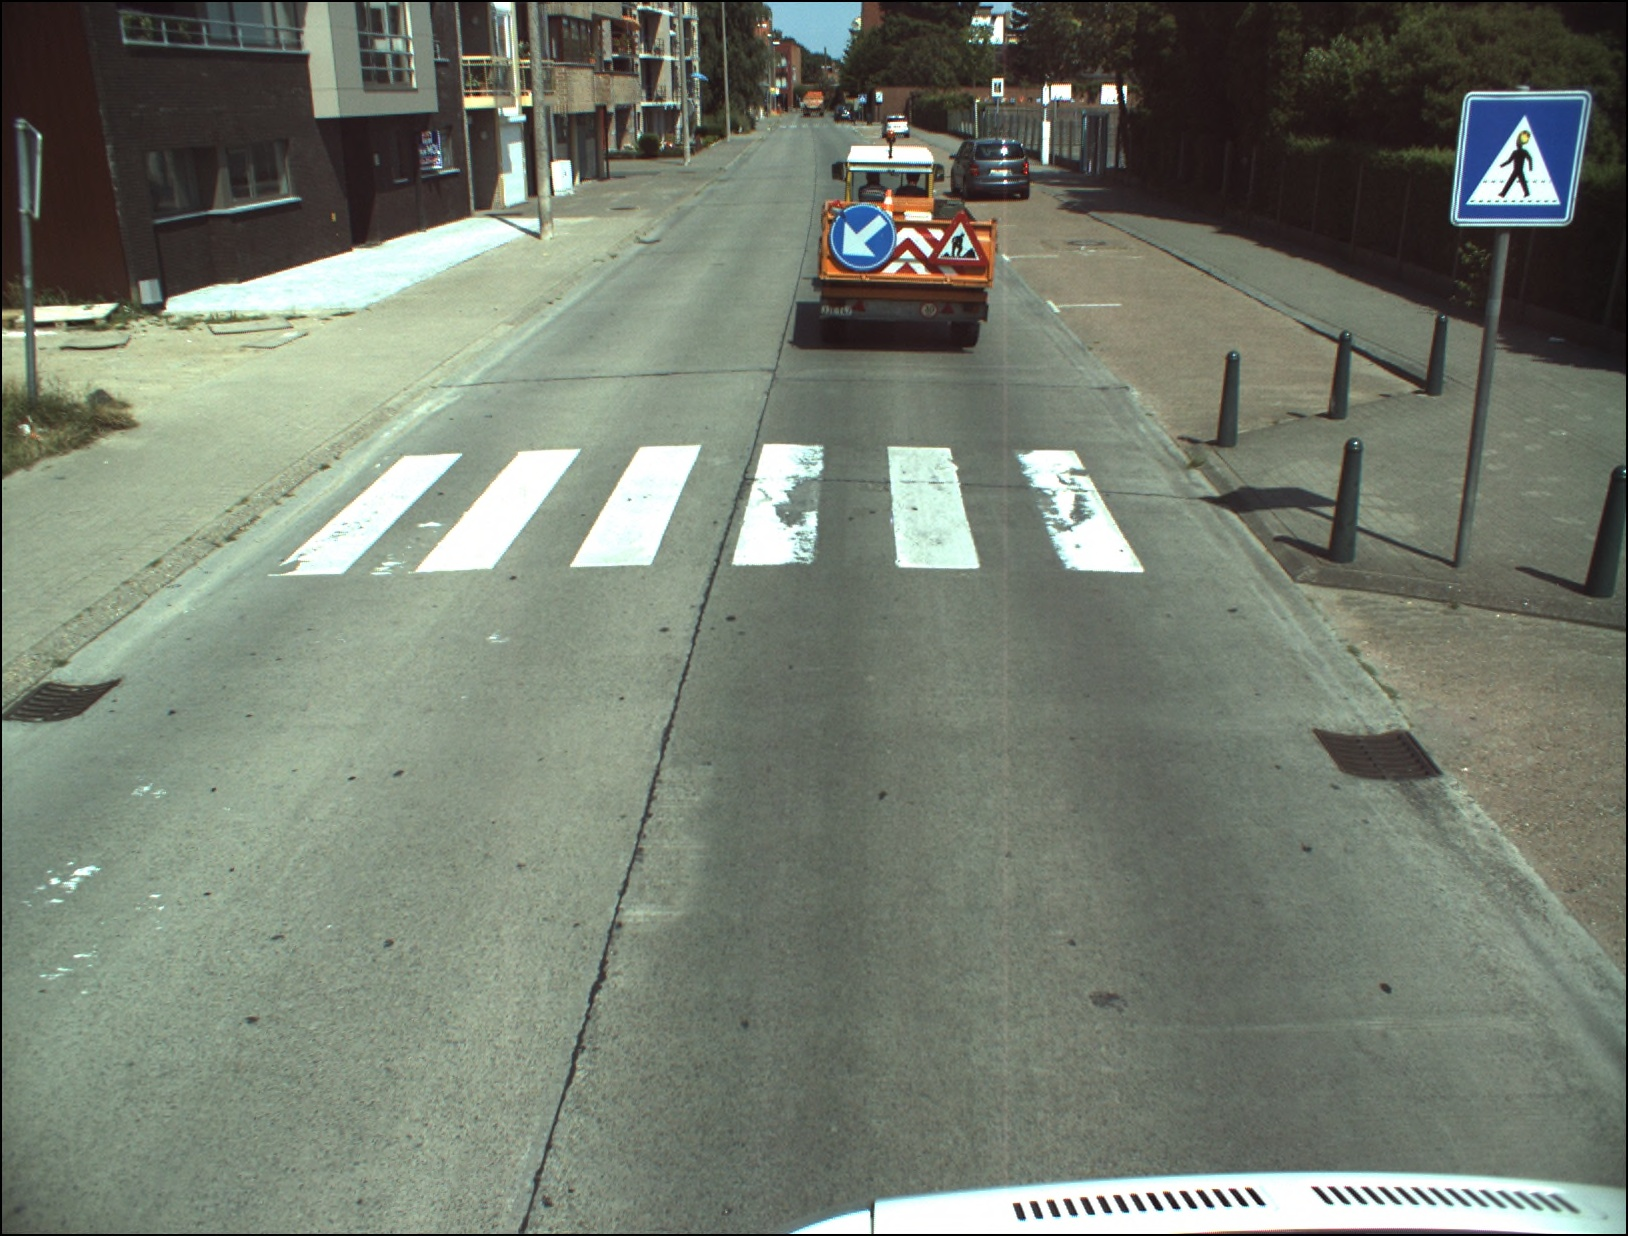construction: (926, 213, 986, 267)
passleft: (830, 206, 895, 271)
pedestrian: (1452, 97, 1586, 224)
